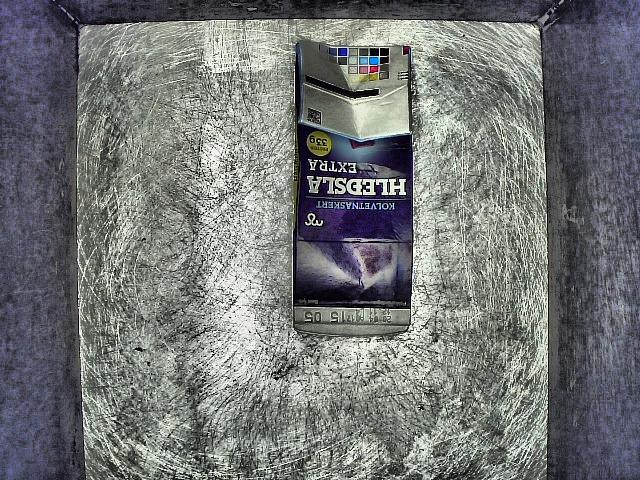Paper: (282, 39, 419, 345)
